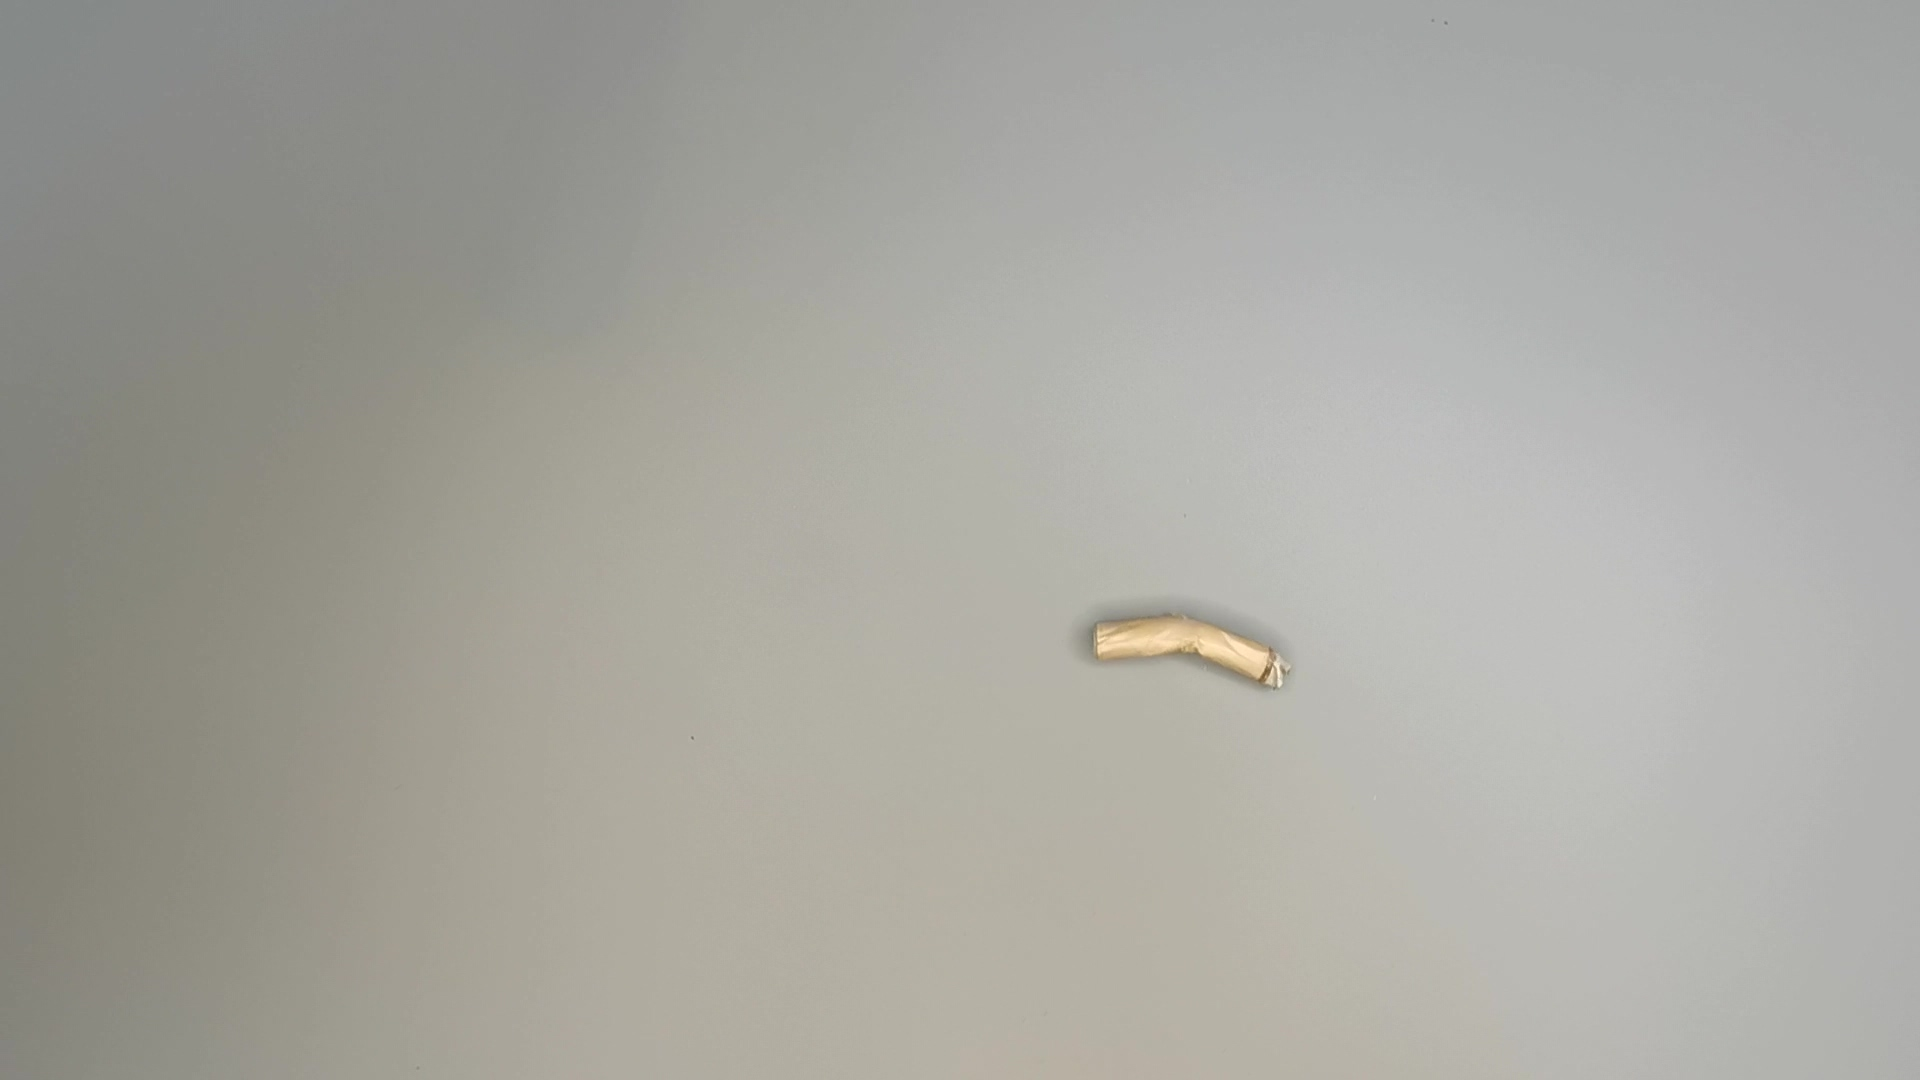cigarette: (1083, 607, 1303, 708)
